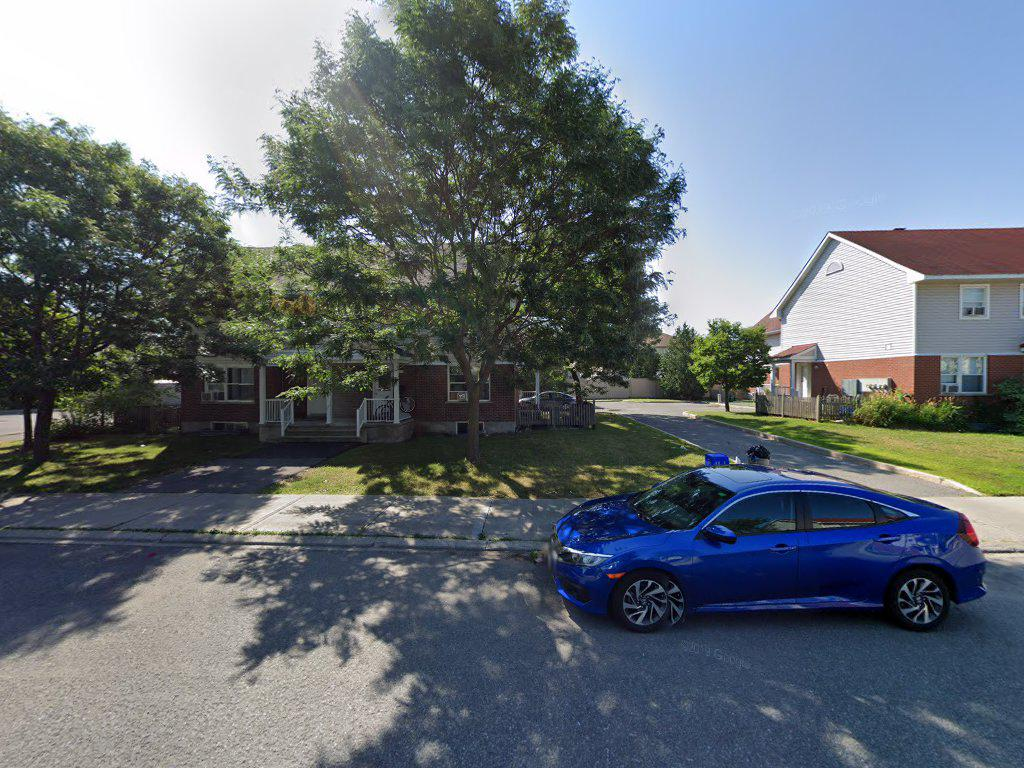trunk: (458, 340, 490, 462)
